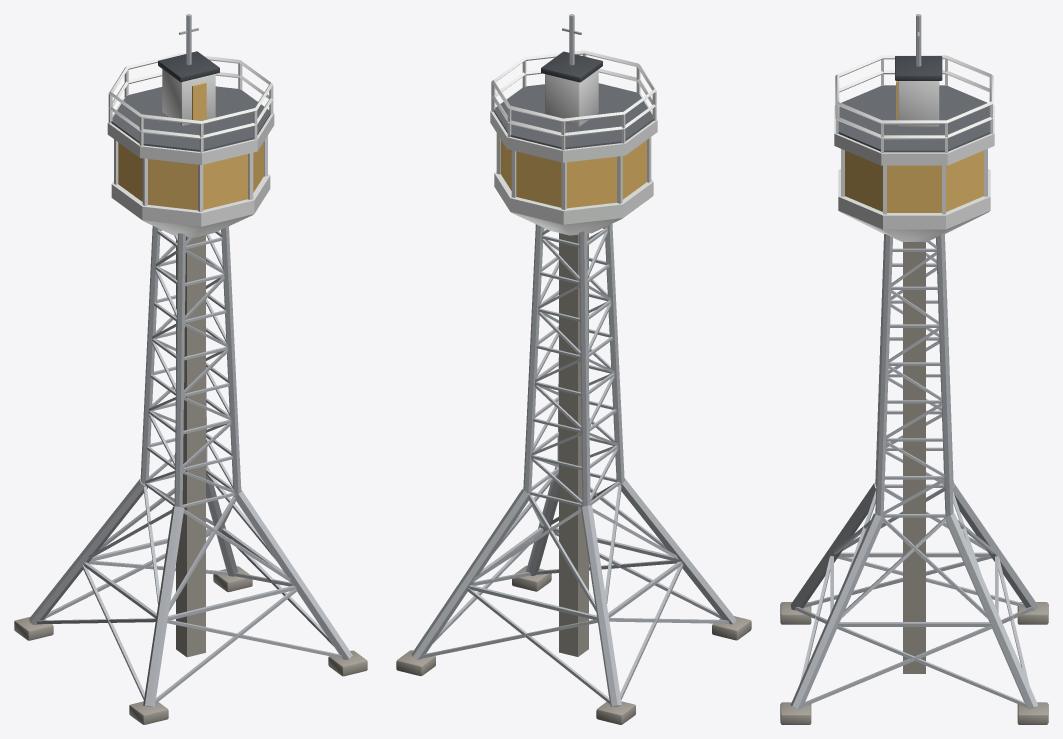
The model's file is tower.glb.
The picture shows the model from 3 angles, left to right: view 1: azimuth 30°, elevation 25°; view 2: azimuth 150°, elevation 25°; view 3: azimuth 270°, elevation 25°; orthographic projection. The views are drawn at different scales.
Parts seen in each view (by area): view 1: tower; view 2: tower; view 3: tower.
Part boxes in pixels (x1=…): tower: x1=14, y1=14, x2=367, y2=724; tower: x1=396, y1=14, x2=751, y2=724; tower: x1=780, y1=14, x2=1048, y2=724.
Size of the model in its own units: 0.026 by 0.07 by 0.026.
